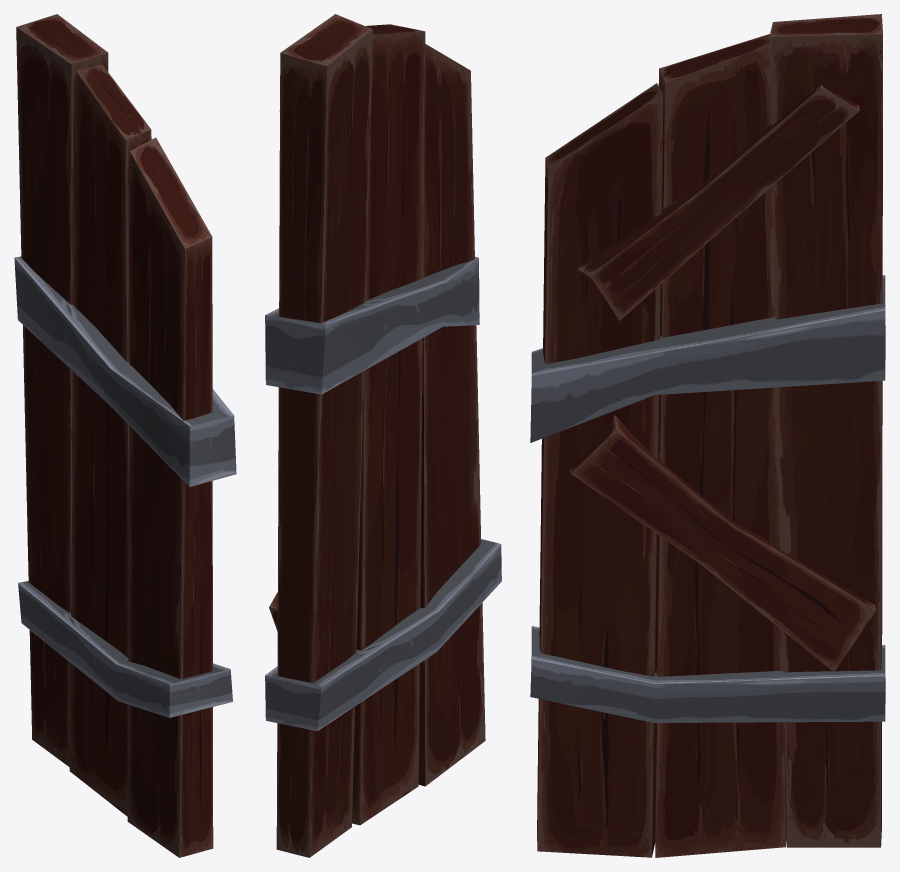
The model's file is SM_PROP_wall_wood_gate_door_L_01.glb.
3 views of the same model, side by side, from view 1: azimuth 30°, elevation 25°; view 2: azimuth 150°, elevation 25°; view 3: azimuth 270°, elevation 25° (orthographic). The views are drawn at different scales.
Visible parts, largest first — view 1: SM_PROP_wall_wood_gate_door_L_01_EXPORT; view 2: SM_PROP_wall_wood_gate_door_L_01_EXPORT; view 3: SM_PROP_wall_wood_gate_door_L_01_EXPORT.
Boxes of the visible parts, box(x1,y1,x2,y2) form: SM_PROP_wall_wood_gate_door_L_01_EXPORT: box(14, 14, 236, 857); SM_PROP_wall_wood_gate_door_L_01_EXPORT: box(265, 14, 501, 857); SM_PROP_wall_wood_gate_door_L_01_EXPORT: box(530, 14, 885, 857).
Bounding box in the file's own units: 0.5795 × 5.51 × 2.16.
Materials: 2 (2 with a texture image).
